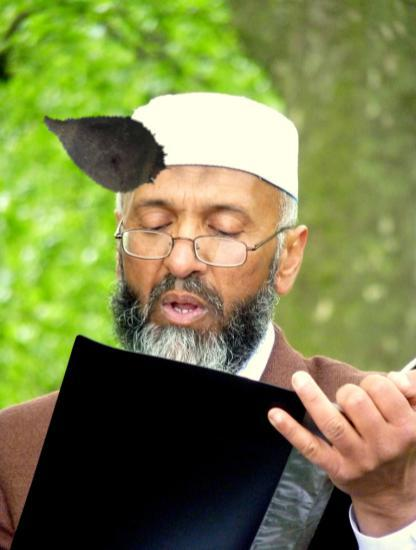Beetroot: (33, 76, 176, 219)
